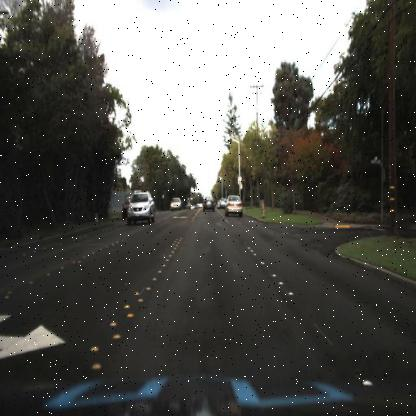car: (126, 183, 156, 230), (226, 194, 244, 220), (202, 193, 215, 214), (169, 193, 183, 212), (216, 196, 228, 208)
